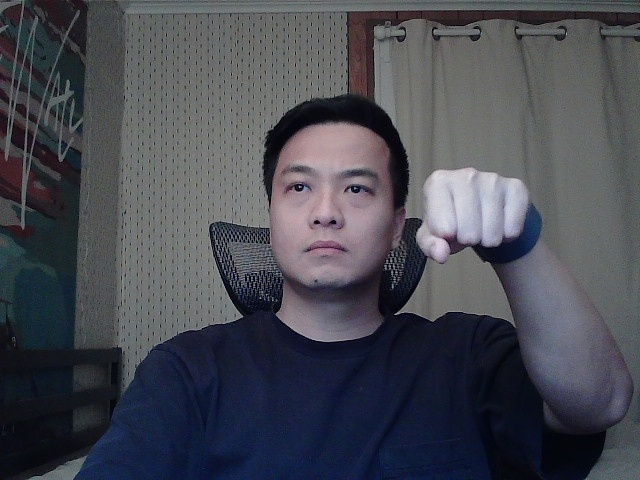Yes: (399, 157, 555, 273)
